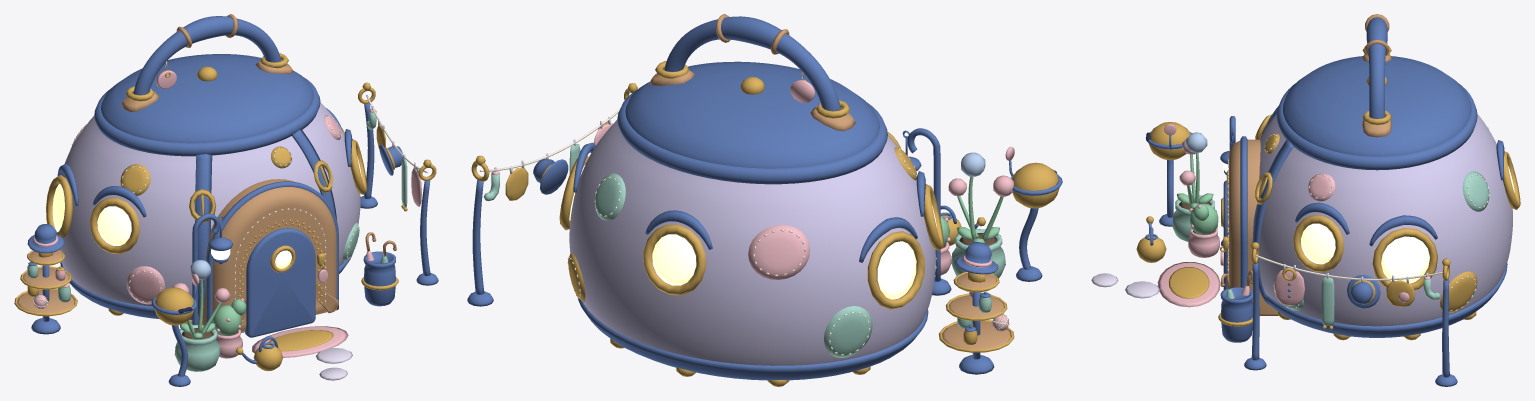
Rendered from house_08_0810.fbx.
3 views of the same model, side by side, from view 1: azimuth 30°, elevation 25°; view 2: azimuth 150°, elevation 25°; view 3: azimuth 270°, elevation 25° (orthographic). The views are drawn at different scales.
Visible parts, largest first — view 1: House_Body_Bag, House_Lid, Entrance_Pocket, Entrance_Door, House_RimPiping, Roof_Handle, Window_Grommets, Prop_RoundShelf, Wall_Straps, Entrance_Mat, Prop_Clothesline_Posts, Window_Glass (+25 smaller); view 2: House_Body_Bag, House_Lid, Window_Grommets, House_RimPiping, House_BaseTrim, Roof_Handle, Prop_RoundShelf, Window_Glass, Wall_Patches_Mint, Wall_Patches_Pink, Window_Eyelids, Prop_Laundry (+11 smaller); view 3: House_Body_Bag, House_Lid, Prop_Laundry, House_RimPiping, Entrance_Pocket, Window_Grommets, Window_Glass, House_BaseTrim, Entrance_Mat, Prop_Clothesline_Posts, Roof_Handle, Prop_UmbrellaStand (+19 smaller).
Boxes of the visible parts, x1,y1,x2,y2 form: House_Body_Bag: [59, 102, 360, 306]; House_Lid: [101, 54, 313, 143]; Entrance_Pocket: [191, 179, 338, 332]; Entrance_Door: [245, 228, 315, 337]; House_RimPiping: [94, 77, 320, 156]; Roof_Handle: [133, 16, 281, 95]; Window_Grommets: [46, 128, 367, 253]; Prop_RoundShelf: [14, 250, 77, 334]; Wall_Straps: [195, 130, 336, 317]; Entrance_Mat: [252, 326, 348, 357]; Prop_Clothesline_Posts: [360, 103, 438, 285]; Window_Glass: [52, 155, 361, 245]; House_Body_Bag: [569, 120, 935, 365]; House_Lid: [625, 61, 879, 168]; Window_Grommets: [559, 156, 943, 309]; House_RimPiping: [617, 90, 887, 184]; House_BaseTrim: [577, 297, 928, 380]; Roof_Handle: [664, 16, 840, 110]; Prop_RoundShelf: [938, 272, 1014, 374]; Window_Glass: [569, 165, 936, 299]; Wall_Patches_Mint: [595, 173, 872, 357]; Wall_Patches_Pink: [748, 225, 935, 279]; Window_Eyelids: [573, 142, 925, 262]; Prop_Laundry: [484, 122, 612, 200]; House_Body_Bag: [1259, 114, 1512, 326]; House_Lid: [1283, 56, 1471, 156]; Prop_Laundry: [1274, 267, 1440, 329]; House_RimPiping: [1277, 84, 1477, 170]; Entrance_Pocket: [1229, 139, 1278, 315]; Window_Grommets: [1293, 151, 1520, 290]; Window_Glass: [1301, 166, 1514, 283]; House_BaseTrim: [1265, 263, 1507, 337]; Entrance_Mat: [1157, 262, 1220, 307]; Prop_Clothesline_Posts: [1244, 263, 1457, 386]; Roof_Handle: [1366, 17, 1387, 118]; Prop_UmbrellaStand: [1218, 287, 1252, 342].
Bounding box in the file's own units: 6.32 × 3.85 × 5.71.
